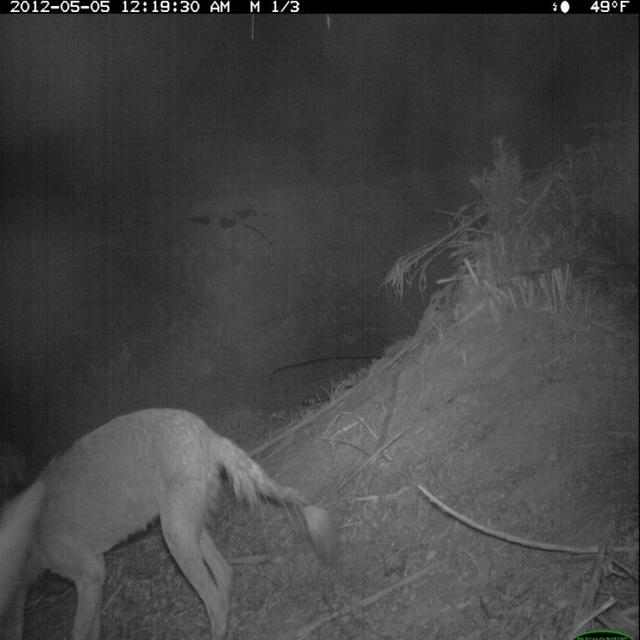coyote: (3, 400, 348, 639)
